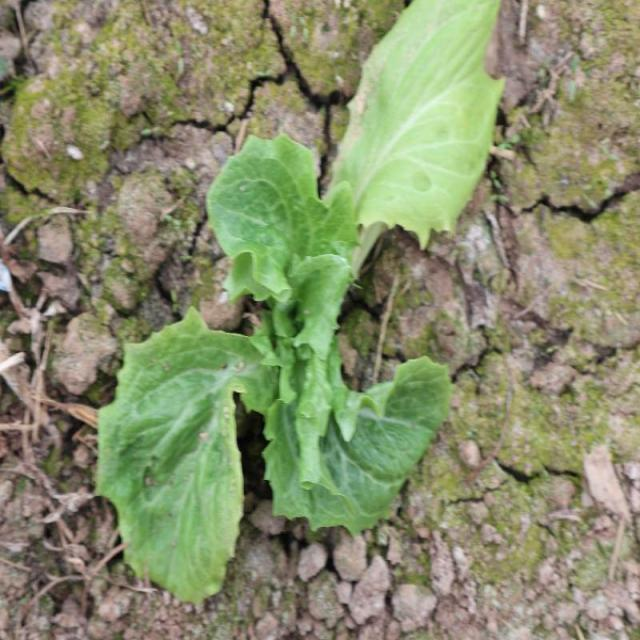crop: (98, 136, 451, 601)
